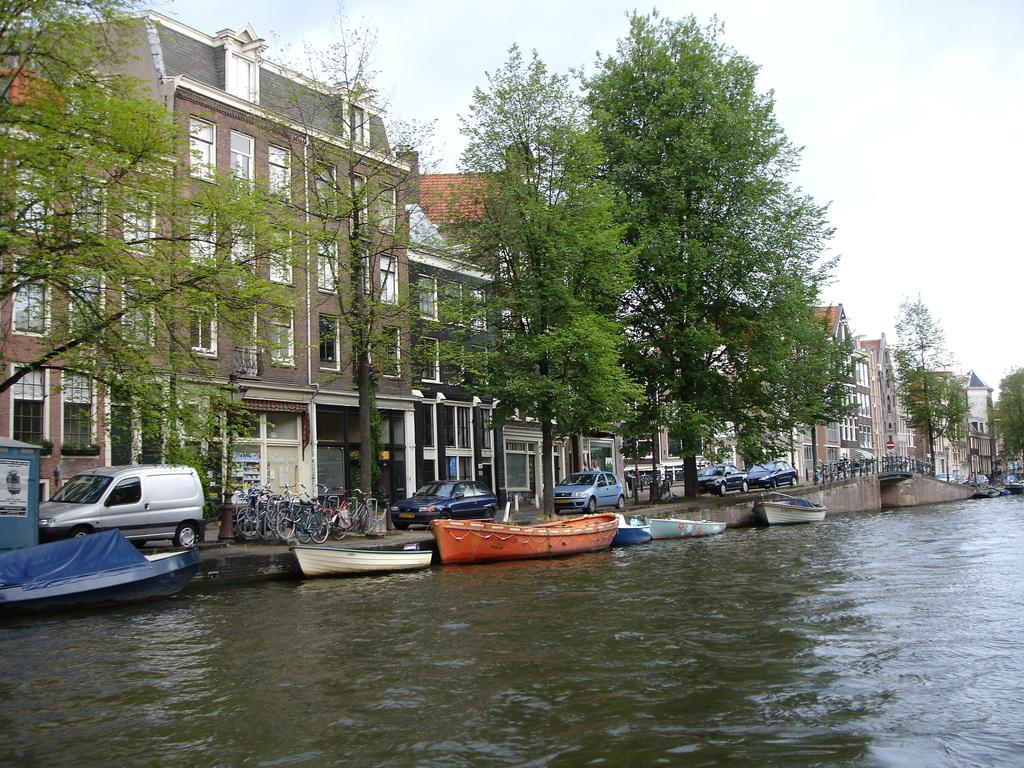vehicle: (37, 466, 207, 547), (391, 480, 498, 529), (553, 471, 626, 513), (697, 464, 750, 497), (747, 461, 799, 489)
